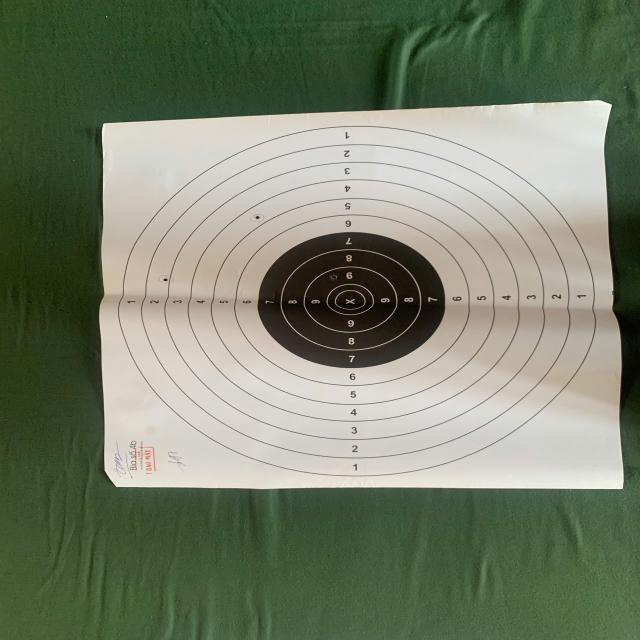bullet: (254, 215, 262, 220), (331, 274, 337, 280), (162, 277, 168, 282)
target: (99, 101, 623, 488)
